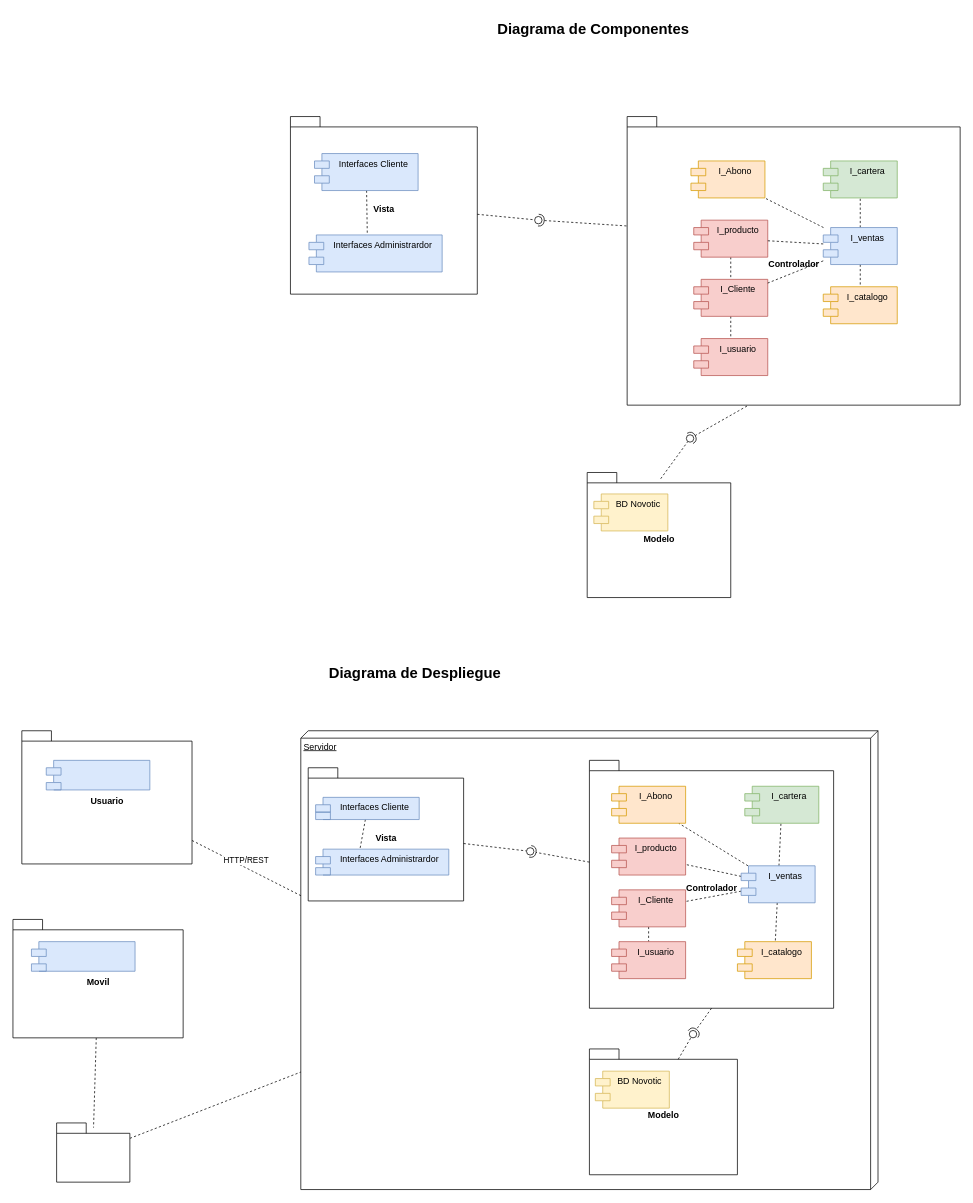
Some shapes in this 973 by 1203 pixel diagram are drawn without their labels. The centre of each missing label's shape, as x and y in pixels:
API: (93,1152)
APP: (83,956)
Navegador: (98,775)
